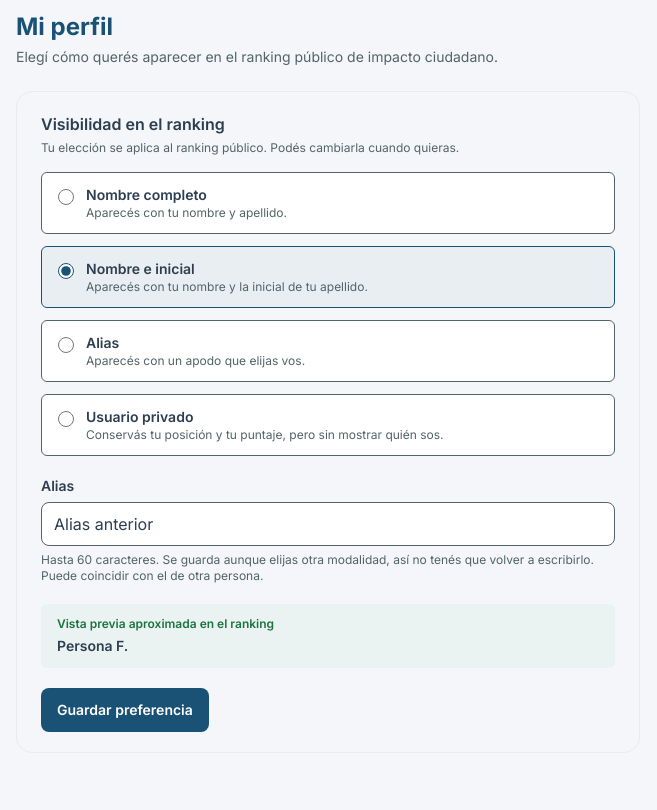
cambia la visibilidad con PATCH y muestra la vista previa
The width and height of the screenshot is (657, 810).
expect the radio button labelled "Nombre e inicial" is checked: met, box top-left (58, 263), bottom-right (74, 279)
expect the text "Persona F." is shown: met, box top-left (57, 637), bottom-right (128, 654)
Click the radio button labelled "Alias Aparecés con un apodo que elijas vos.".
click(66, 345)  # box top-left (58, 337), bottom-right (74, 353)
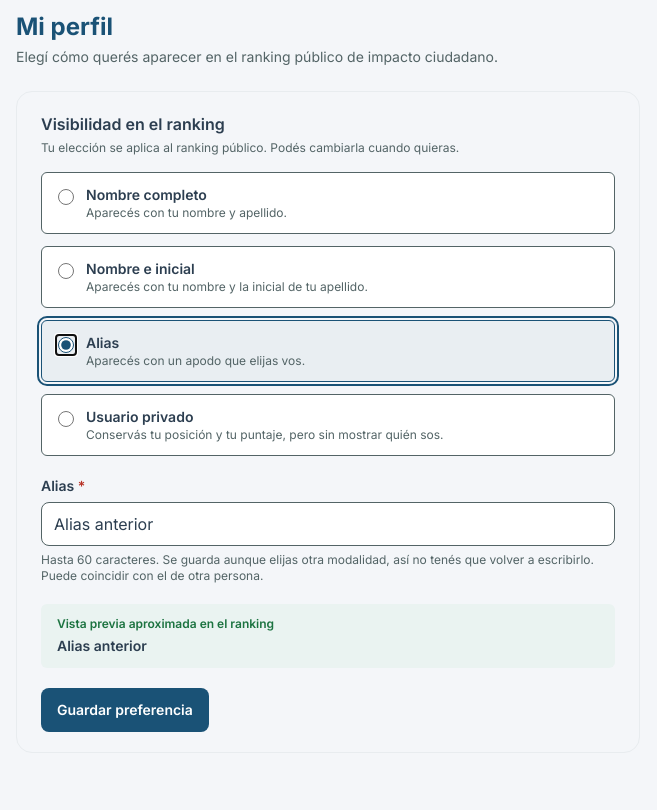
Replace the text in the field labelled "Alias *" with "  Vecindad ficticia  " at (328, 524), box top-left (41, 502), bottom-right (615, 546)
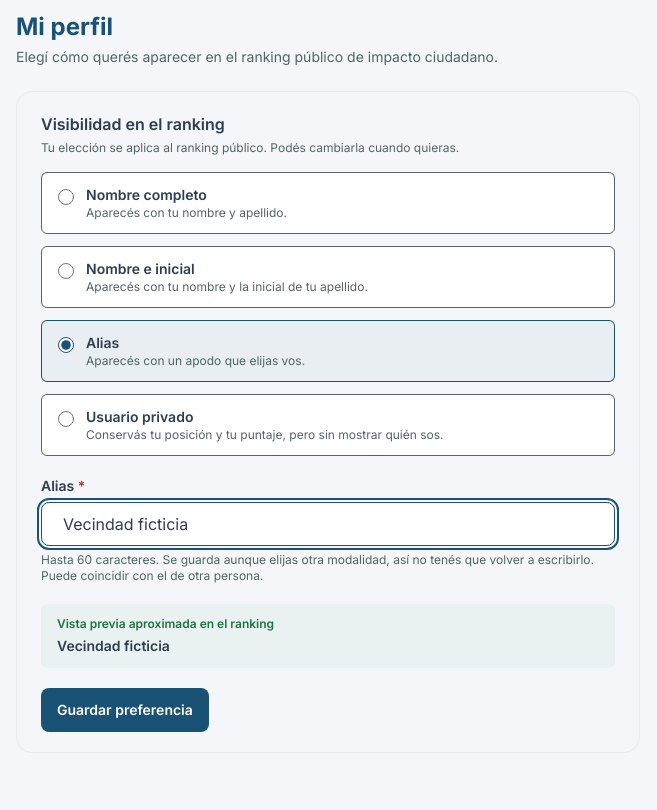
expect the text "Vecindad ficticia" is shown: met, box top-left (57, 637), bottom-right (170, 654)
Click the button "Guardar preferencia".
click(125, 710)  # box top-left (41, 688), bottom-right (209, 732)
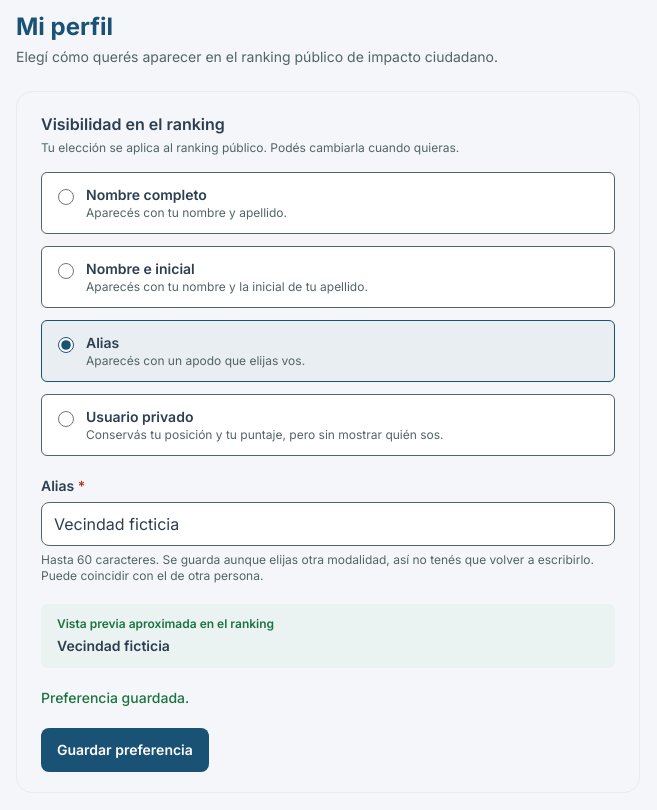
expect the radio button labelled "Alias Aparecés con un apodo que elijas vos." is checked: met, box top-left (58, 337), bottom-right (74, 353)
expect the text "Vecindad ficticia" is shown: met, box top-left (57, 637), bottom-right (170, 654)
expect the message reads "Preferencia guardada.": met, box top-left (41, 689), bottom-right (189, 706)
